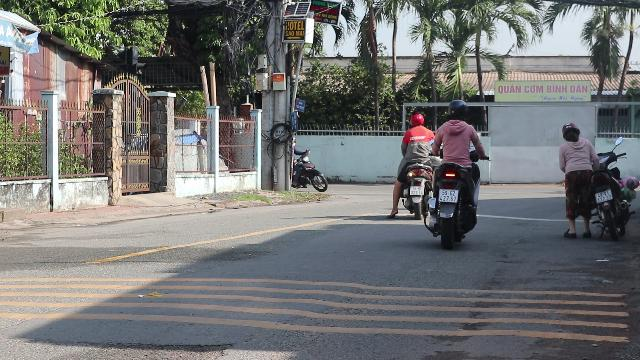helmet: (446, 99, 468, 122), (408, 113, 424, 127)
licenseplate: (439, 189, 457, 202), (410, 186, 422, 194)
motorcyclist: (428, 98, 484, 248), (387, 112, 435, 218)
